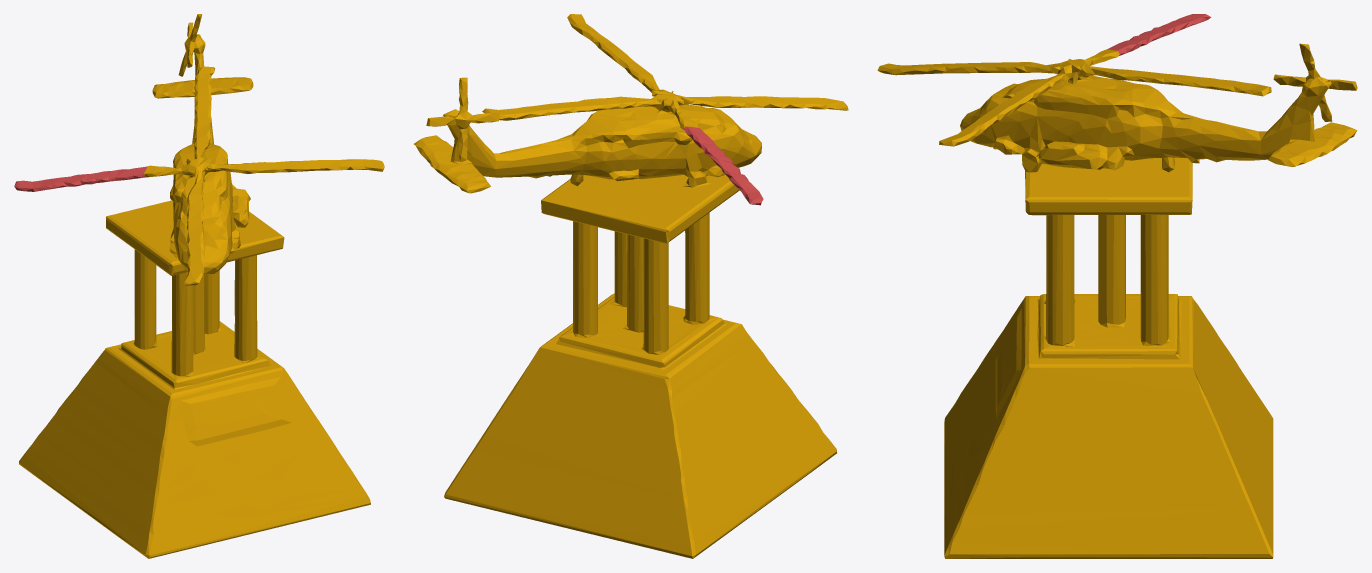
Rendered from fractured_22_2pcs.glb.
3 renders of one model, left to right at view 1: azimuth 30°, elevation 25°; view 2: azimuth 150°, elevation 25°; view 3: azimuth 270°, elevation 25°, orthographic. The views are drawn at different scales.
Visible parts, largest first — view 1: piece_0.obj, piece_1.obj; view 2: piece_0.obj, piece_1.obj; view 3: piece_0.obj, piece_1.obj.
Part boxes in pixels (x1,y1,x2,y2): piece_0.obj: [19, 14, 384, 558]; piece_1.obj: [14, 166, 147, 191]; piece_0.obj: [414, 14, 848, 558]; piece_1.obj: [683, 126, 763, 205]; piece_0.obj: [877, 43, 1357, 558]; piece_1.obj: [1107, 14, 1211, 55].
Size of the model in its own units: 0.7297 by 1 by 0.8749.
